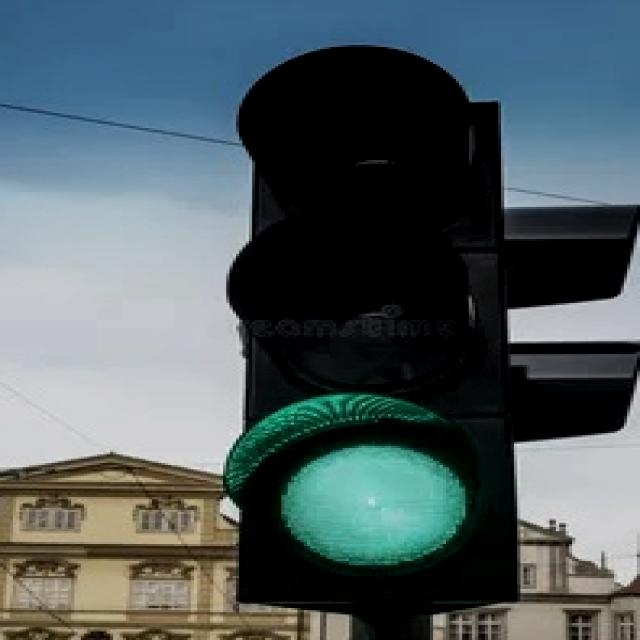yesil: (222, 47, 522, 613)
